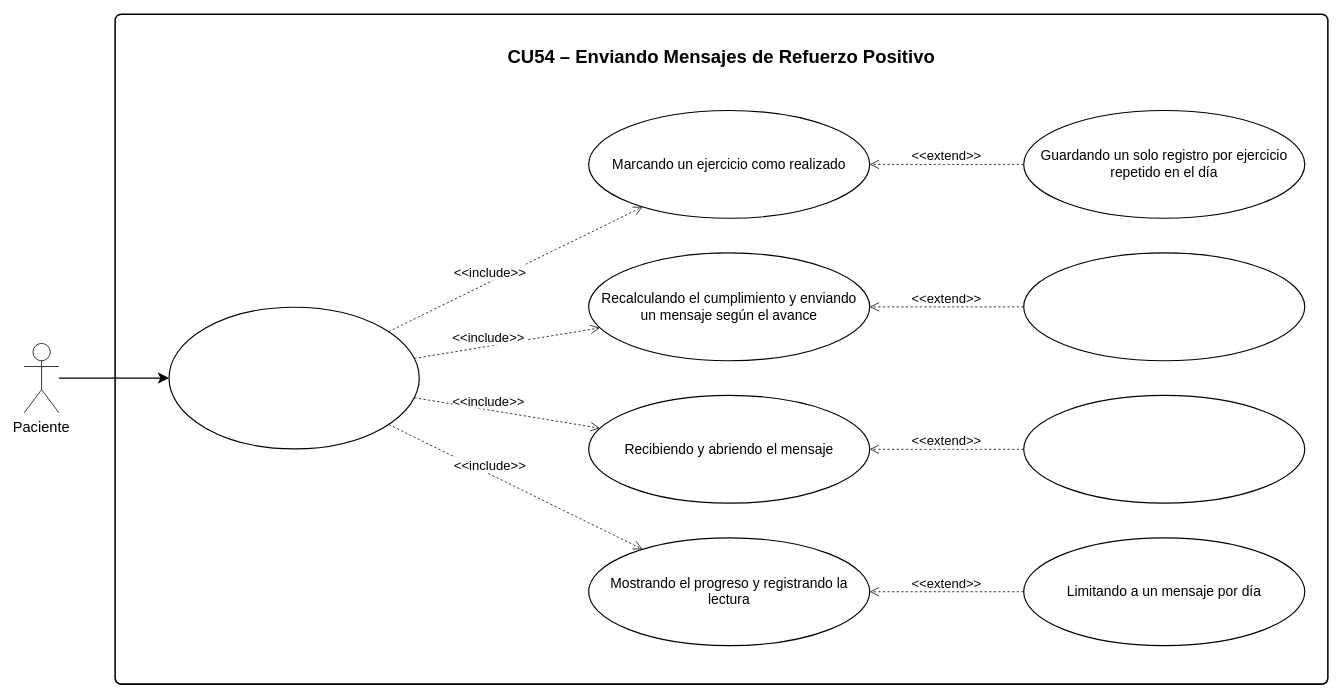
The diagram is 1342 pixels wide and 698 high, and some of its shapes have lost their labels. The box of each missing label's shape, as (x1, y1, x2, y2) in pixels:
Dejando el mensaje en el centro de notificaciones: (1023, 394, 1305, 503)
Enviando Mensajes de Refuerzo Positivo: (168, 306, 419, 449)
Omitiendo el mensaje por cumplimiento sin mejora o mensajes desactivados: (1023, 252, 1305, 361)
